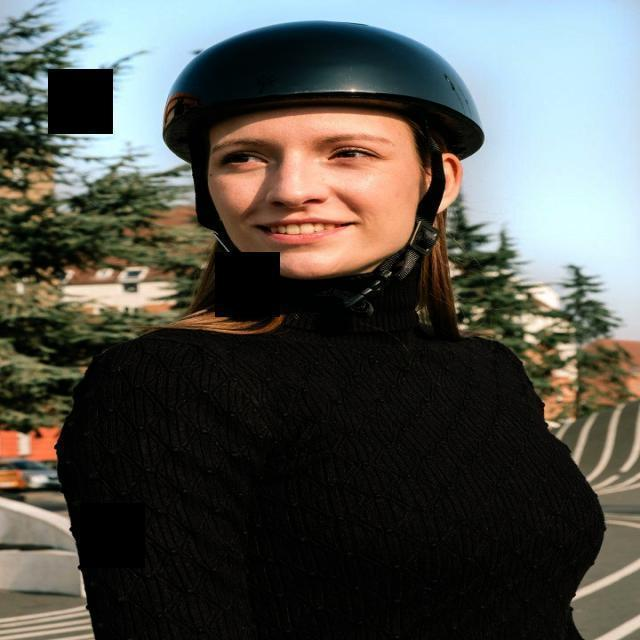helmet: (166, 22, 490, 318)
